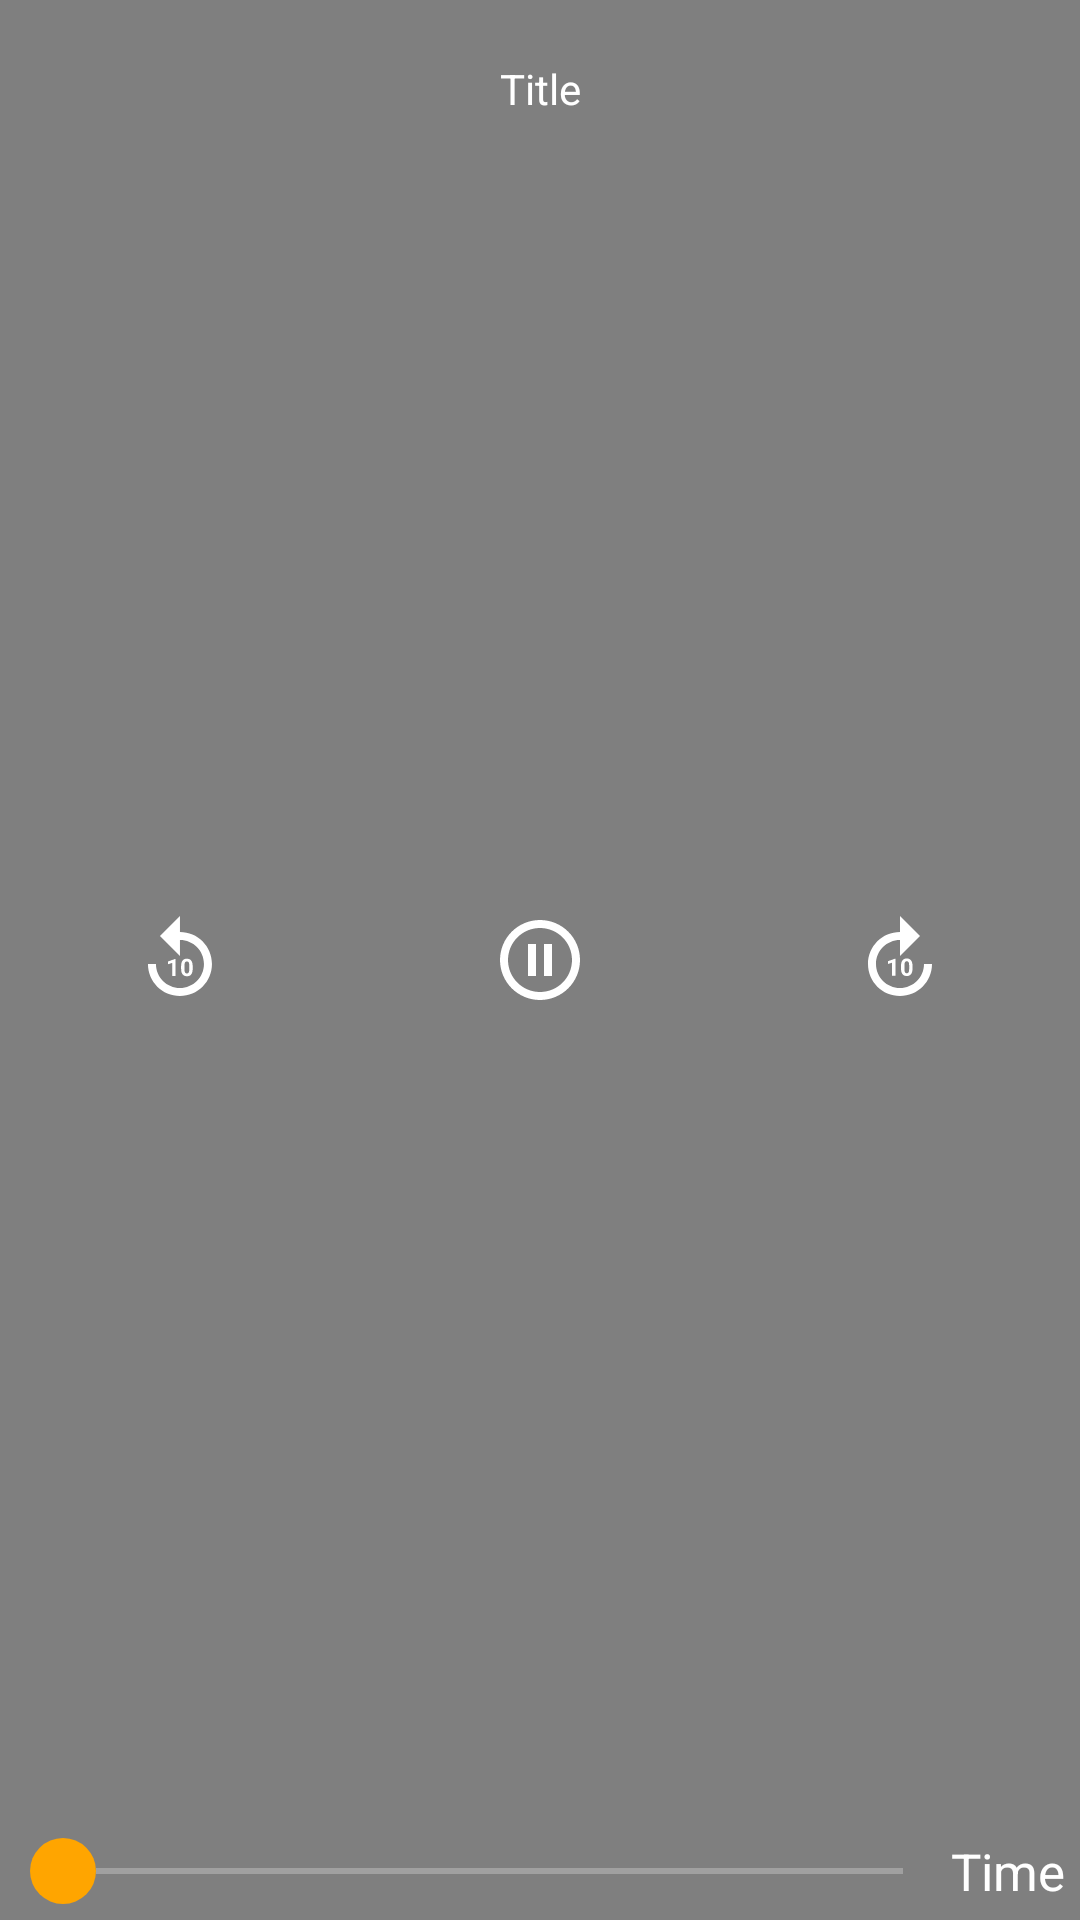

Point at icon controls on the screen. Image size 1080w x 1920h, points as (x,y).
forward: (900,956)
pause: (540,960)
replay: (180,956)
